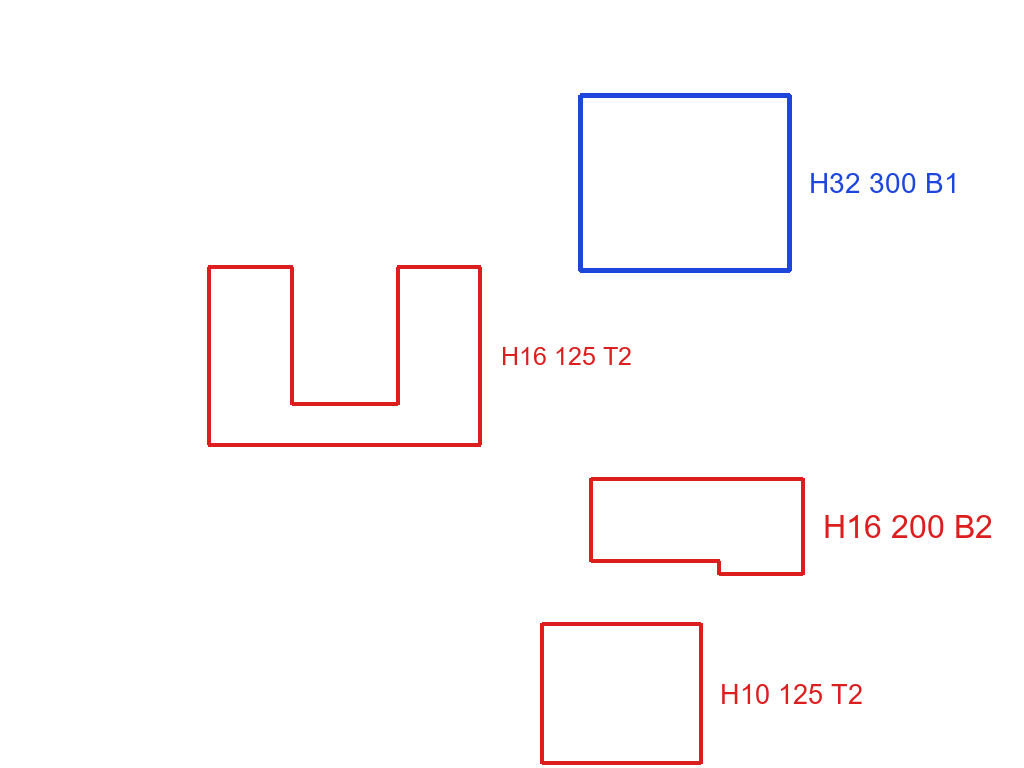shape: (205, 264, 485, 449), (576, 91, 794, 275), (538, 620, 704, 767), (588, 474, 807, 578)
text: (821, 513, 995, 540), (807, 171, 962, 195), (718, 682, 865, 706), (499, 345, 634, 367)
